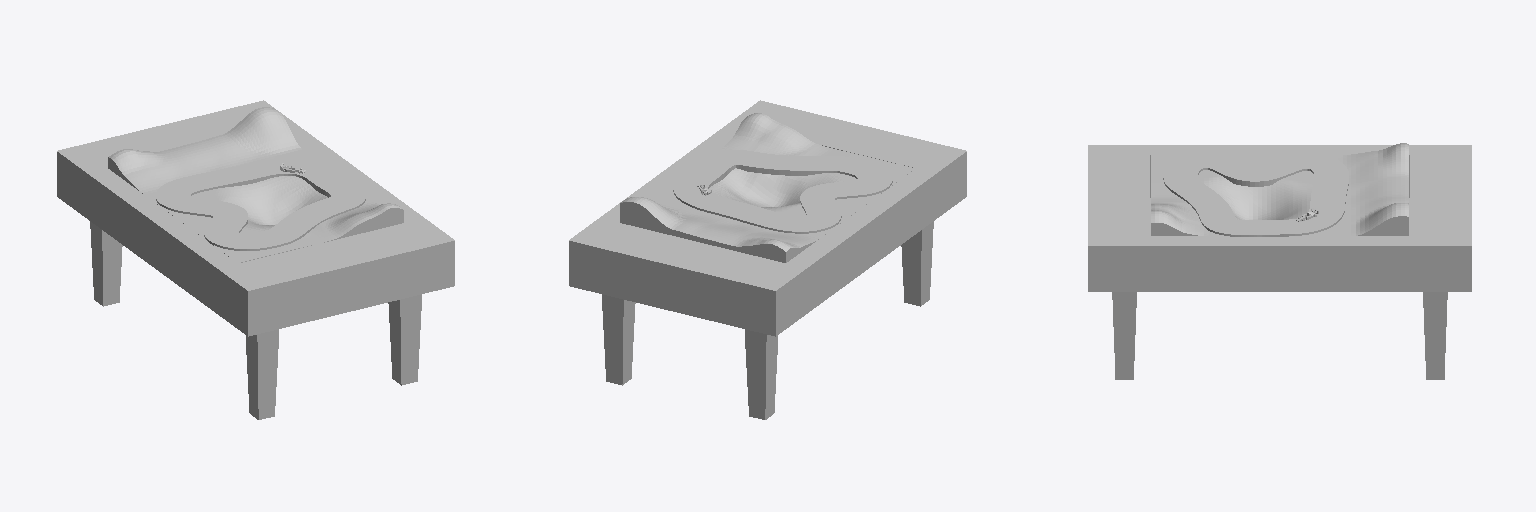
Rendered from NewestTisch15.obj.
The picture shows the model from 3 angles: view 1: azimuth 30°, elevation 25°; view 2: azimuth 150°, elevation 25°; view 3: azimuth 270°, elevation 25°; orthographic projection.
Parts seen in each view (by area): view 1: Tischplatte_wood_table_001, Landschaft_aerial_grass_rock, off, Bein1_wood_table_001, Bein4_wood_table_001.003, Bein3_wood_table_001.002; view 2: Tischplatte_wood_table_001, Landschaft_aerial_grass_rock, off, Bein2_wood_table_001.001, Bein3_wood_table_001.002, Bein4_wood_table_001.003; view 3: Tischplatte_wood_table_001, Landschaft_aerial_grass_rock, off, Bein1_wood_table_001, Bein2_wood_table_001.001.
Part boxes in pixels (left/top/right/bottom): Tischplatte_wood_table_001: left=57, top=100, right=454, bottom=336; Landschaft_aerial_grass_rock: left=108, top=107, right=403, bottom=262; off: left=156, top=159, right=365, bottom=250; Bein1_wood_table_001: left=388, top=294, right=421, bottom=385; Bein4_wood_table_001.003: left=246, top=329, right=278, bottom=419; Bein3_wood_table_001.002: left=90, top=221, right=122, bottom=306; Tischplatte_wood_table_001: left=569, top=100, right=966, bottom=336; Landschaft_aerial_grass_rock: left=620, top=113, right=915, bottom=262; off: left=673, top=150, right=892, bottom=233; Bein2_wood_table_001.001: left=602, top=294, right=635, bottom=385; Bein3_wood_table_001.002: left=745, top=329, right=777, bottom=419; Bein4_wood_table_001.003: left=901, top=221, right=933, bottom=306; Tischplatte_wood_table_001: left=1088, top=145, right=1471, bottom=291; Landschaft_aerial_grass_rock: left=1151, top=143, right=1408, bottom=235; off: left=1163, top=153, right=1348, bottom=236; Bein1_wood_table_001: left=1112, top=292, right=1136, bottom=379; Bein2_wood_table_001.001: left=1423, top=292, right=1447, bottom=379.
Size of the model in its own units: 5 by 3.91 by 8.